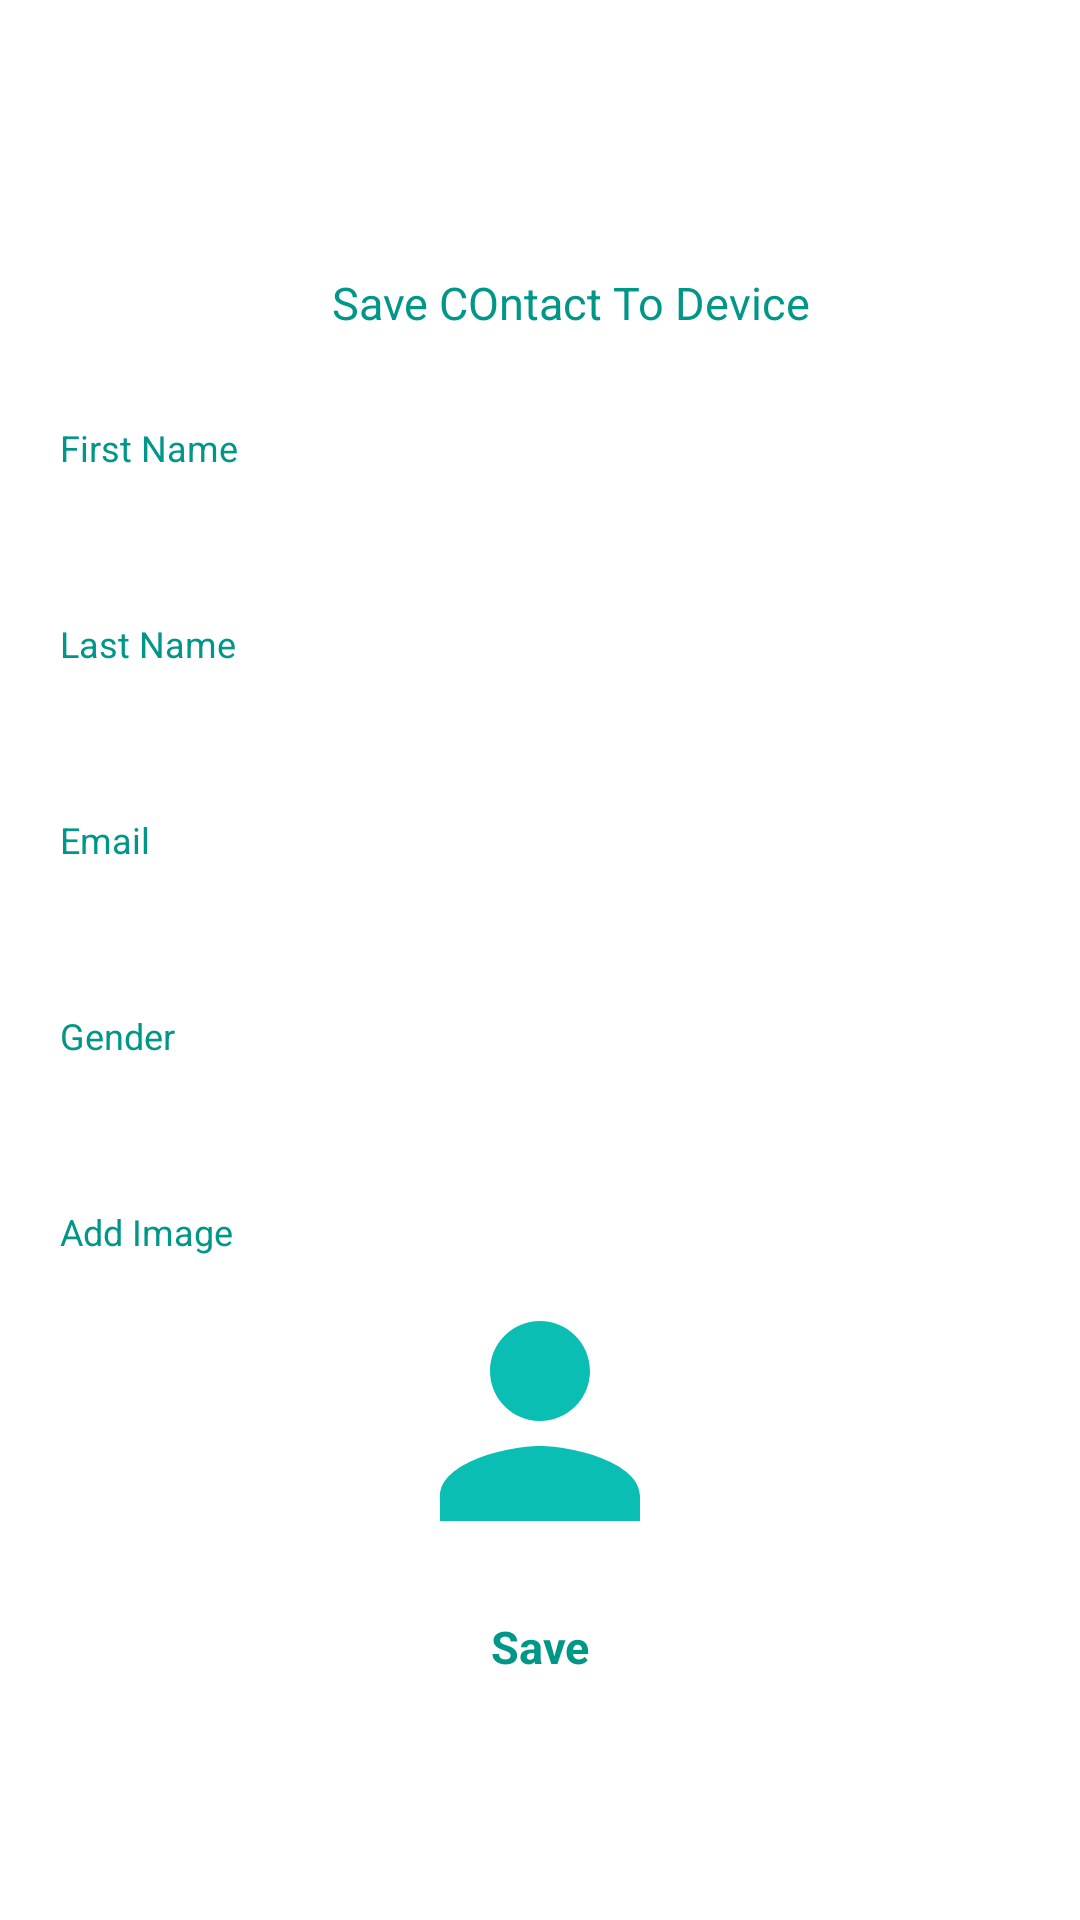

Icon bounding boxes for this 1080×1920 phone screenshot, format (x1, y1, x2, y2):
person: (440, 1321, 640, 1521)
